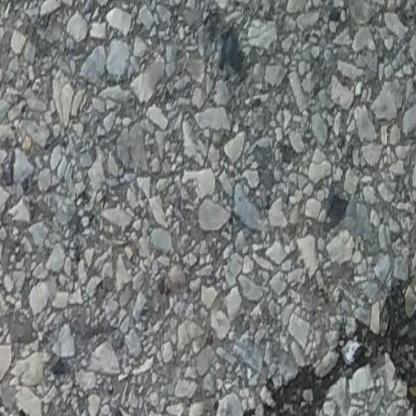Cracks: (222, 279, 416, 416)
